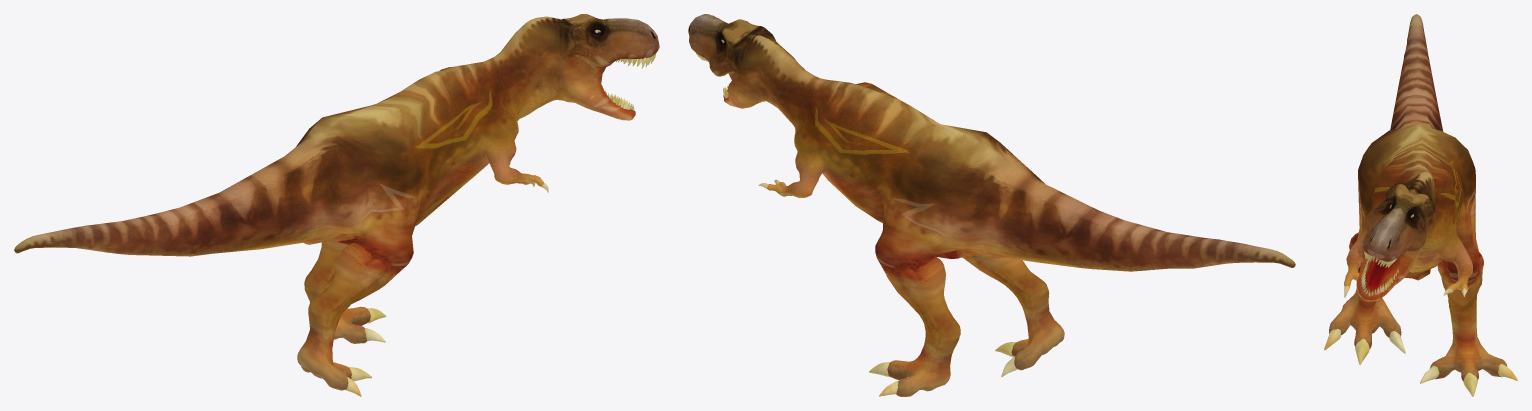
The model's file is dino4.glb.
3 views of the same model, side by side, from view 1: azimuth 30°, elevation 25°; view 2: azimuth 150°, elevation 25°; view 3: azimuth 270°, elevation 25° (orthographic).
Visible parts, largest first — view 1: BodyRex; view 2: BodyRex; view 3: BodyRex.
Part boxes in pixels (bbox=[...]): BodyRex: bbox=[14, 14, 659, 396]; BodyRex: bbox=[688, 14, 1295, 396]; BodyRex: bbox=[1324, 14, 1517, 396].
Bounding box in the file's own units: 7.98 × 3.57 × 2.14.
1 material, 1 textured.
